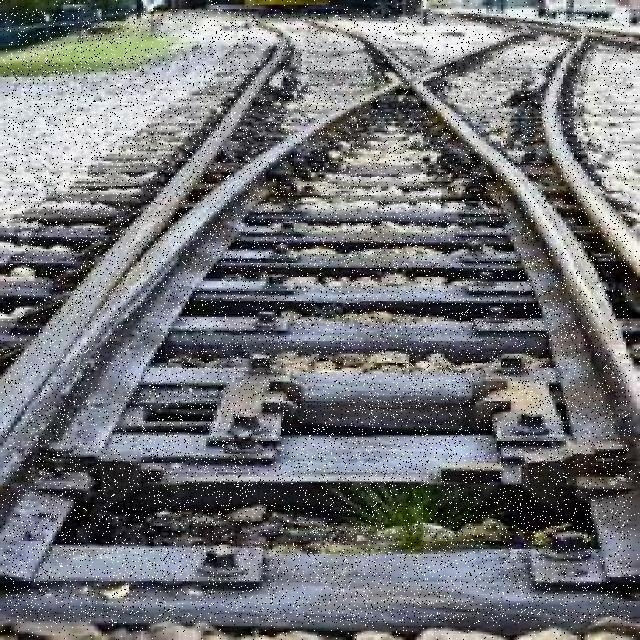rail: (3, 9, 631, 623)
